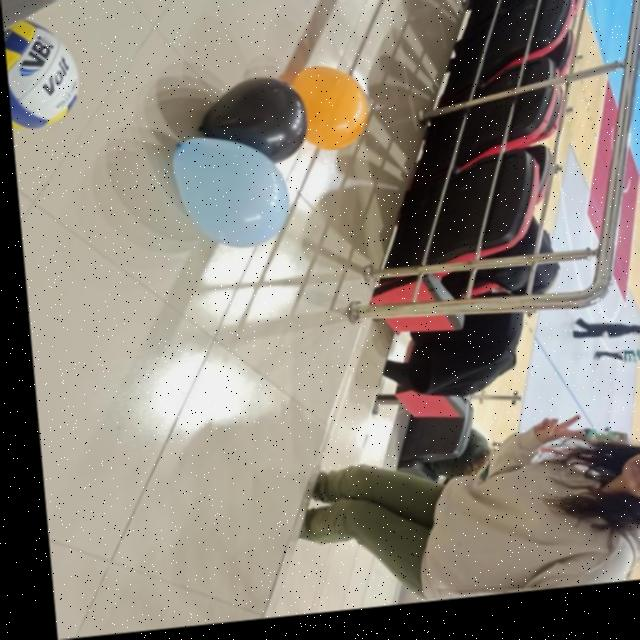balloon: (163, 138, 287, 259), (190, 79, 306, 174), (292, 67, 369, 157)
